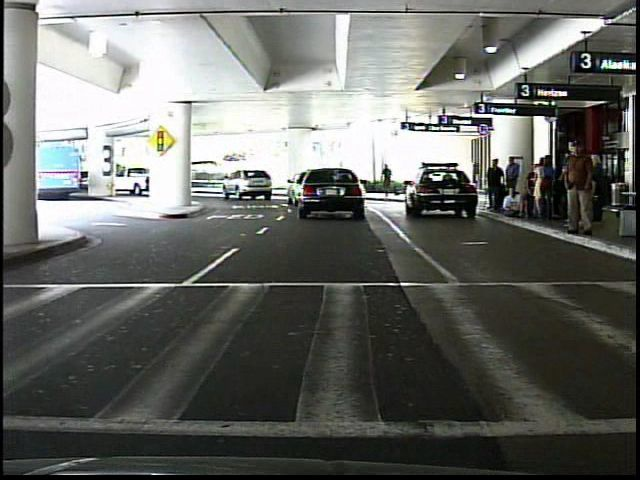person: (561, 138, 600, 241), (483, 159, 505, 216), (381, 164, 395, 198)
